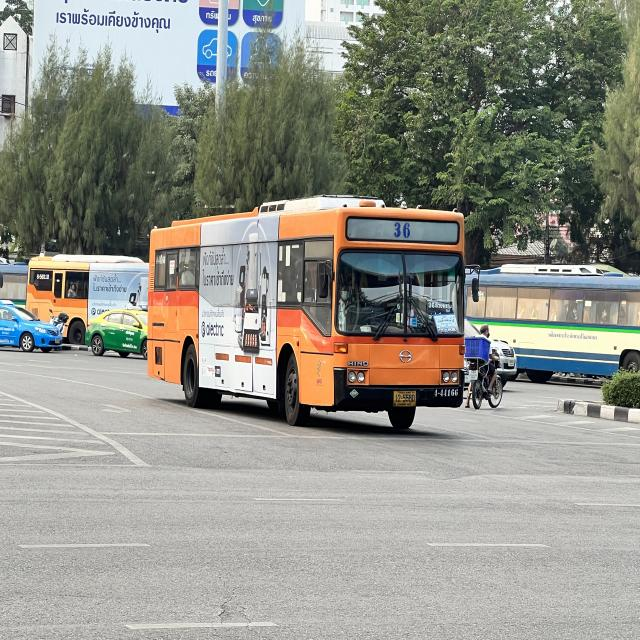BMTA-bus: (144, 196, 467, 434)
Bus Line Number: (390, 218, 414, 245)
Bus Side Number: (431, 384, 459, 397), (155, 254, 167, 266)
Destination Sign: (426, 301, 453, 320)
